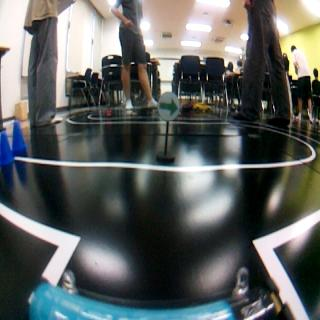right: (159, 90, 178, 123)
